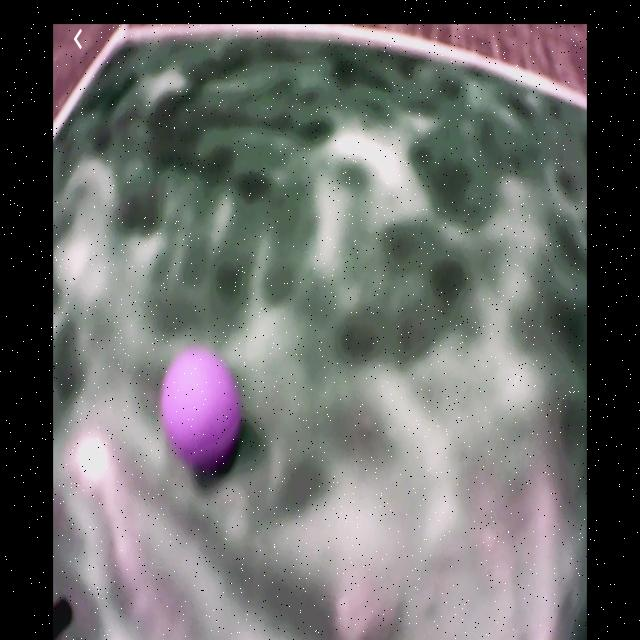ball: (160, 345, 243, 478)
